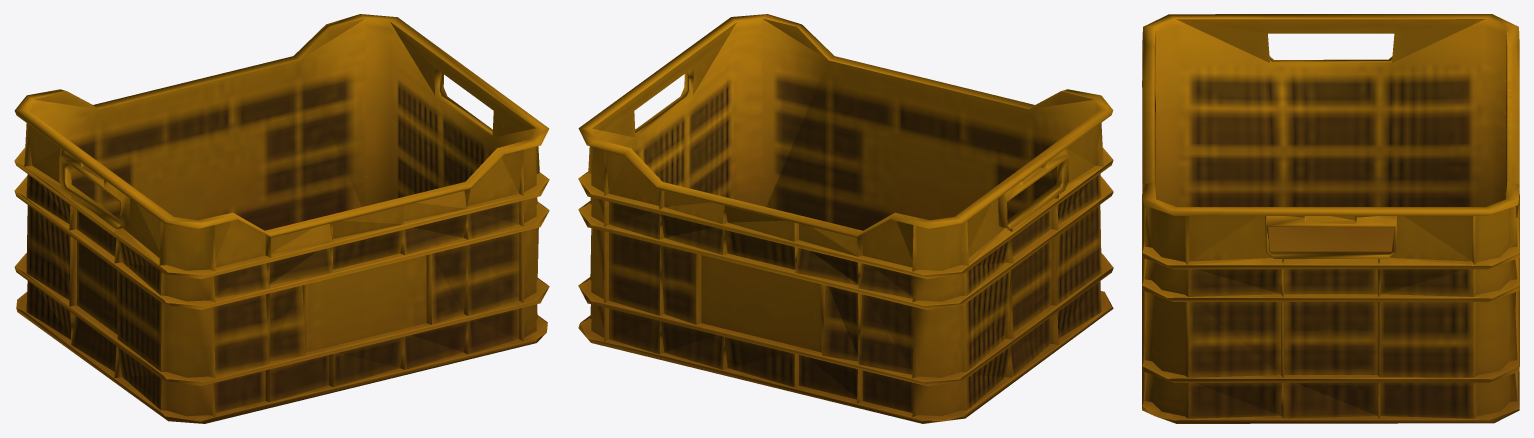
File: plastic_crate_02.glb
3 renders of one model, left to right at view 1: azimuth 30°, elevation 25°; view 2: azimuth 150°, elevation 25°; view 3: azimuth 270°, elevation 25°, orthographic. The views are drawn at different scales.
Parts seen in each view (by area): view 1: plastic_crate_02; view 2: plastic_crate_02; view 3: plastic_crate_02.
Part boxes in pixels (x1,y1,x2,y2): plastic_crate_02: (14, 14, 549, 423); plastic_crate_02: (578, 14, 1113, 423); plastic_crate_02: (1142, 14, 1519, 423).
Size of the model in its own units: 0.5055 by 0.2541 by 0.4052.
Materials: 1 (1 with a texture image).
